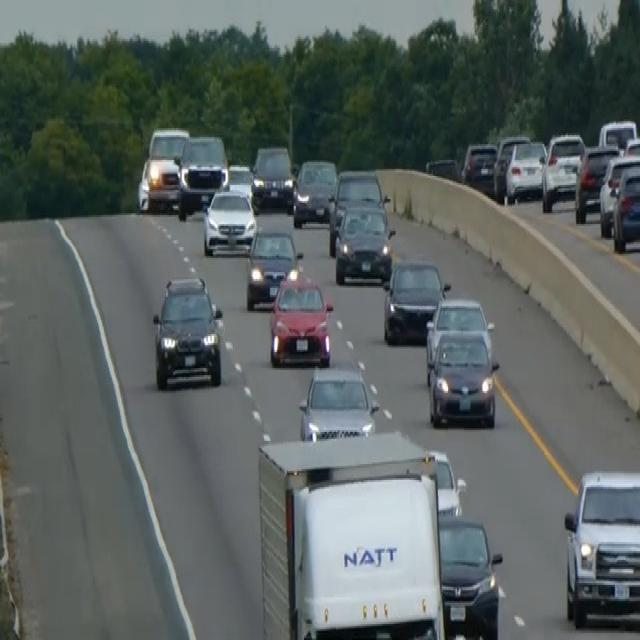car: (151, 272, 224, 389), (437, 512, 502, 638), (427, 327, 499, 429), (268, 265, 333, 366), (297, 361, 379, 441), (424, 295, 494, 382), (382, 256, 448, 343), (334, 201, 394, 284), (327, 167, 384, 254), (245, 224, 302, 309), (175, 131, 228, 217), (137, 125, 189, 212), (201, 183, 256, 256), (541, 130, 585, 212), (574, 142, 619, 222), (292, 156, 337, 228), (250, 142, 294, 212), (504, 137, 546, 203), (492, 132, 530, 198), (611, 164, 639, 252), (461, 138, 498, 194), (597, 116, 638, 151), (224, 160, 254, 204), (424, 155, 460, 181)
jeep: (561, 466, 639, 629)
lorry: (255, 430, 455, 638)
